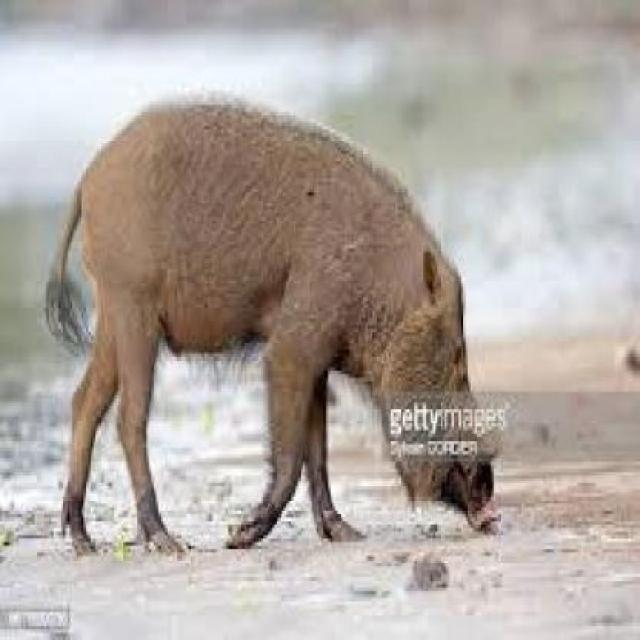wildboar: (40, 86, 508, 568)
